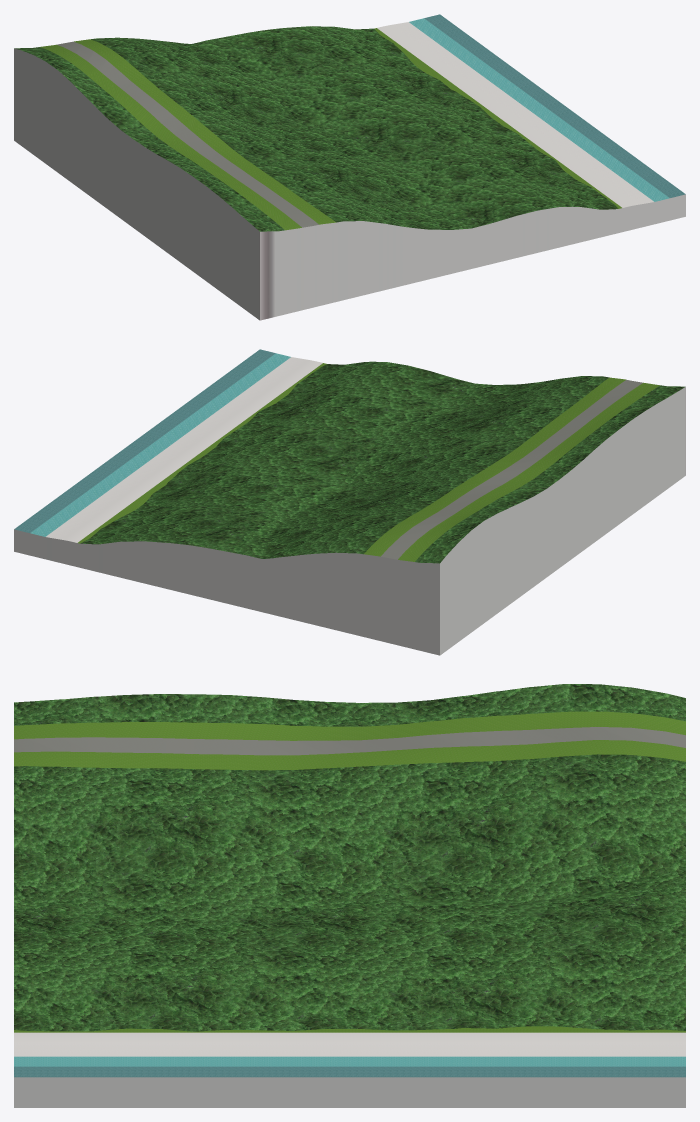
The model's file is land.gltf.
3 renders of one model, top to bottom at view 1: azimuth 30°, elevation 25°; view 2: azimuth 150°, elevation 25°; view 3: azimuth 270°, elevation 25°, orthographic. The views are drawn at different scales.
Parts seen in each view (by area): view 1: Amaryllis City; view 2: Amaryllis City; view 3: Amaryllis City.
Boxes of the visible parts, x1,y1,x2,y2 form: Amaryllis City: (14, 14, 685, 320); Amaryllis City: (14, 349, 685, 655); Amaryllis City: (14, 684, 685, 1107).
Bounding box in the file's own units: 24 × 5.52 × 24.
8 materials, 7 textured.
